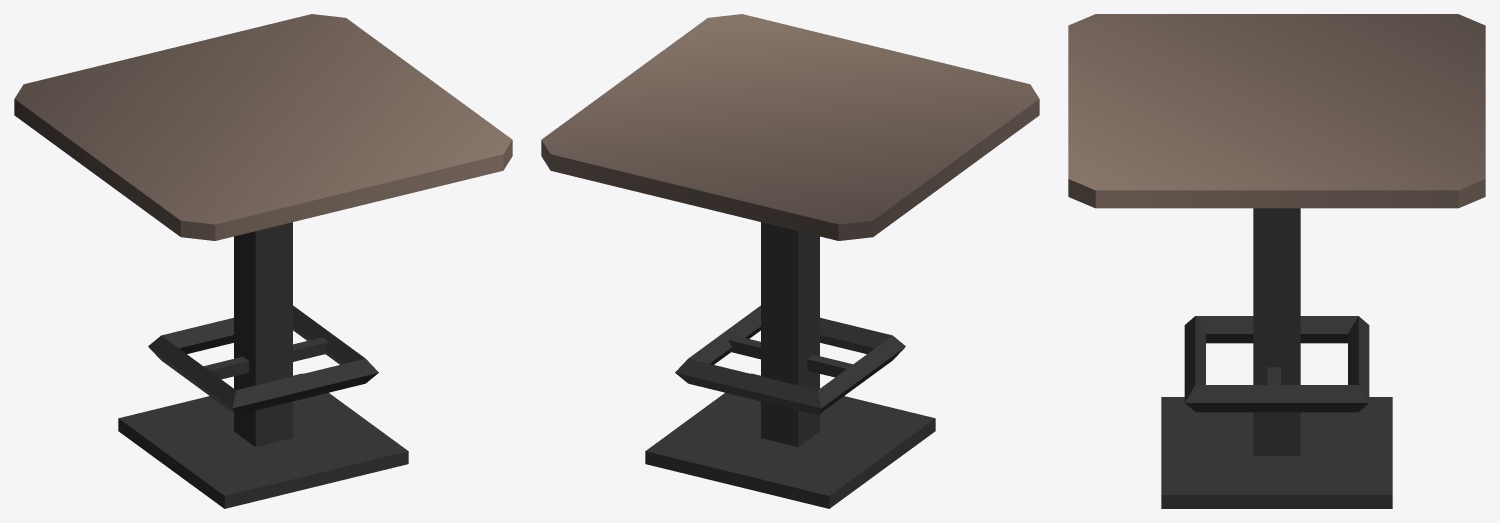
The model's file is B01_Table_Bar.fbx.
3 views of the same model, side by side, from view 1: azimuth 30°, elevation 25°; view 2: azimuth 150°, elevation 25°; view 3: azimuth 270°, elevation 25° (orthographic). The views are drawn at different scales.
Visible parts, largest first — view 1: B01_Table_Bar; view 2: B01_Table_Bar; view 3: B01_Table_Bar.
Part boxes in pixels (x1,y1,x2,y2): B01_Table_Bar: (14, 14, 512, 508); B01_Table_Bar: (541, 14, 1039, 508); B01_Table_Bar: (1068, 14, 1485, 508).
Size of the model in its own units: 91.2 by 86.26 by 91.2.
